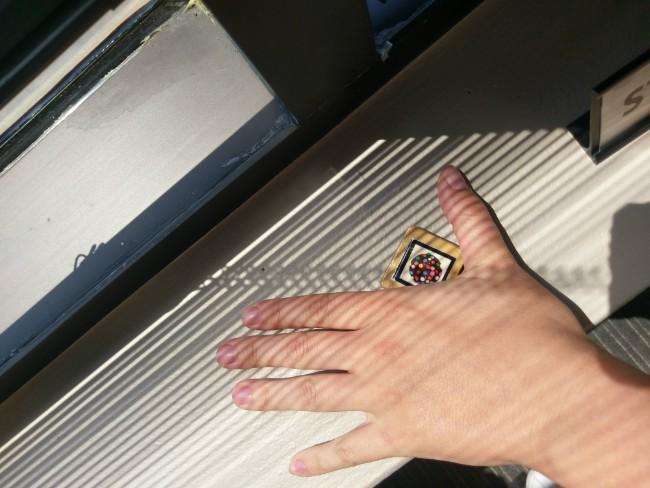cookie: (391, 236, 457, 286)
